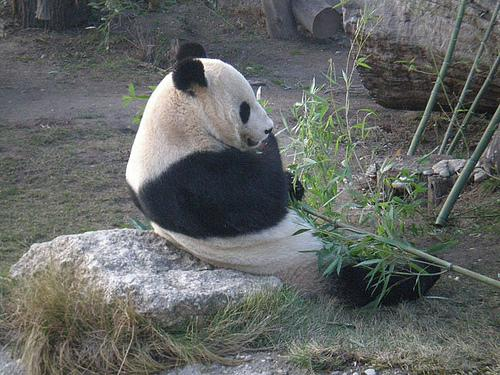panda: (126, 43, 324, 287)
